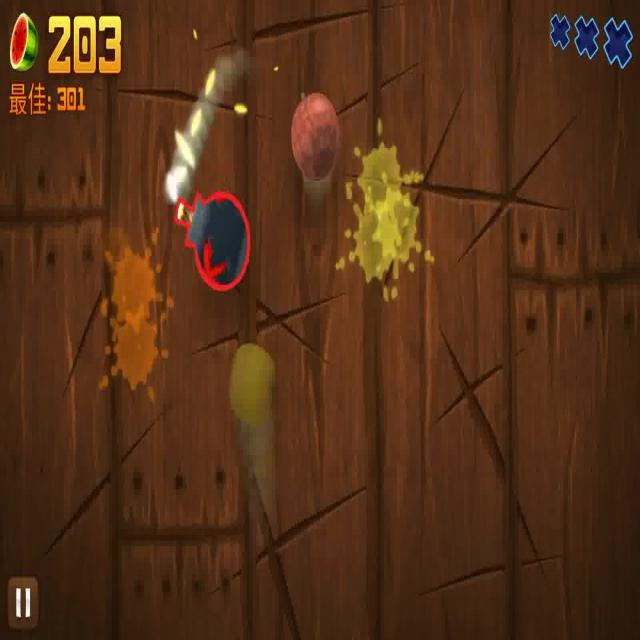bomb: (163, 174, 249, 300)
fruit: (290, 89, 339, 183)
